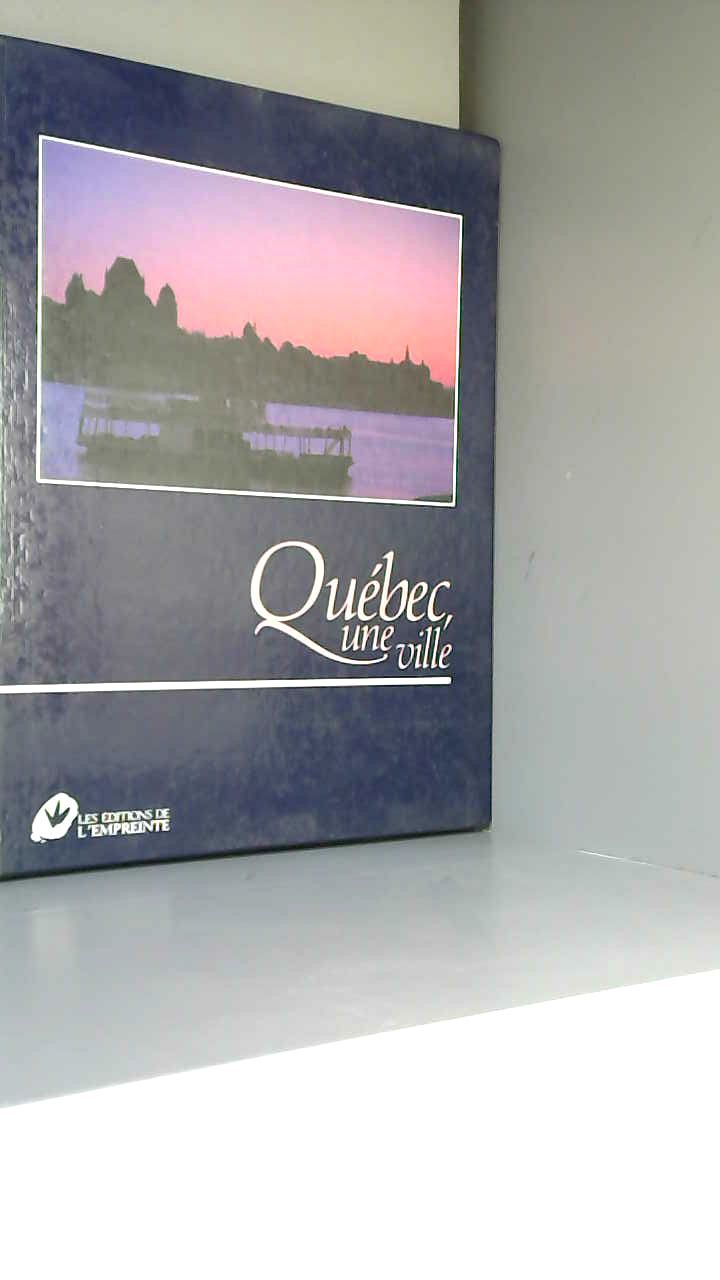book: (0, 22, 534, 901)
